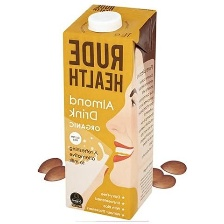carton: (55, 1, 162, 220)
